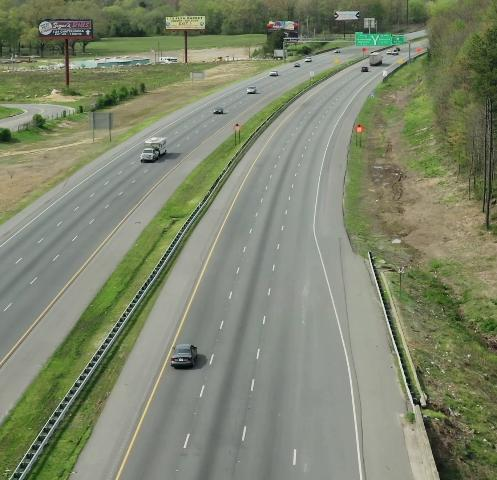car: (173, 344, 199, 371), (212, 107, 224, 115), (361, 65, 370, 74), (247, 86, 257, 94), (270, 69, 278, 77), (305, 57, 313, 62), (333, 49, 341, 54), (293, 63, 300, 67)
pickup-truck: (137, 134, 169, 164)
truck: (370, 52, 384, 65)
